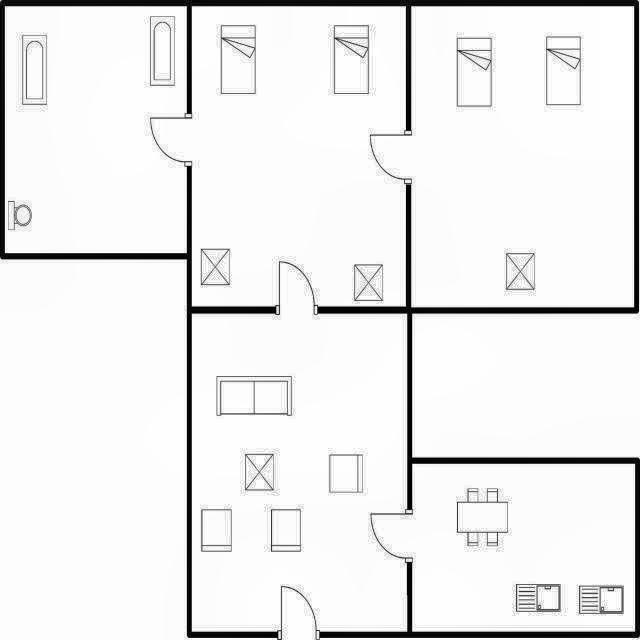room: (192, 313, 407, 632), (411, 6, 634, 307), (191, 6, 406, 307), (5, 6, 187, 253), (412, 464, 635, 632)
